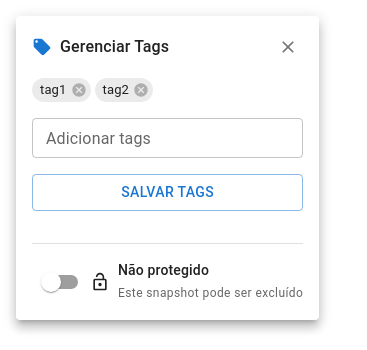
Scenario: SnapshotTagsPopover › Protection Toggle › updates UI after toggle success
Click the checkbox labelled "Não protegido Este snapshot pode ser excluído" at (61, 282), box [32,260,303,304]
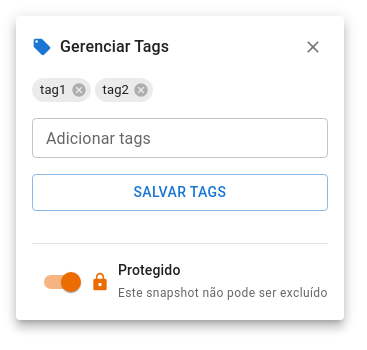
Expected: the text "Protegido" is shown, [118,262,180,278]
Now the text "Este snapshot não pode ser excluído" is shown, box [118,286,328,300]
